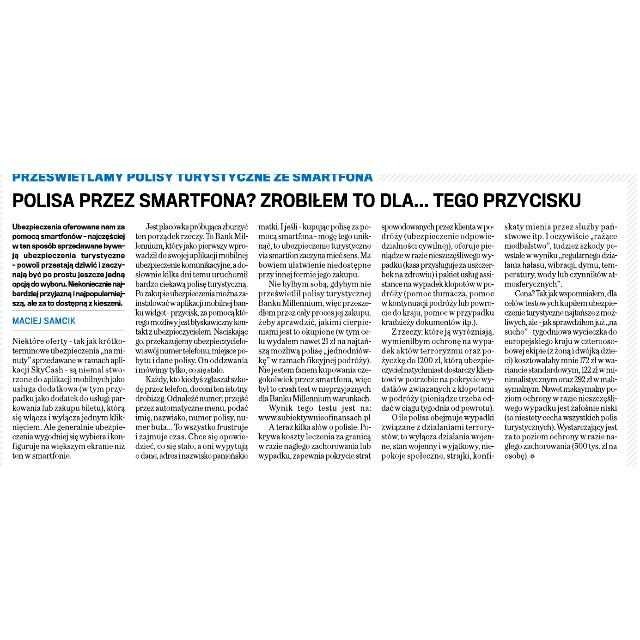author: (9, 314, 80, 326)
body: (501, 221, 622, 463), (254, 220, 374, 460), (378, 220, 497, 462), (134, 220, 252, 462), (9, 333, 129, 461)
lead: (11, 220, 127, 308)
title: (10, 174, 586, 212)
